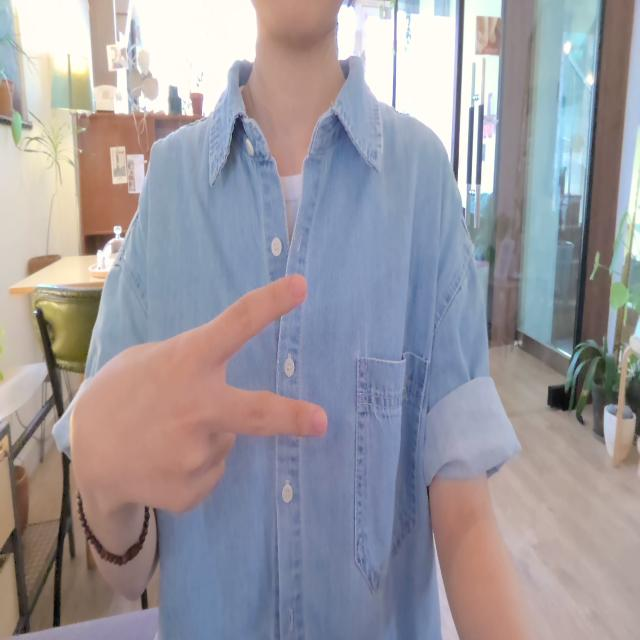digeut: (81, 251, 342, 549)
